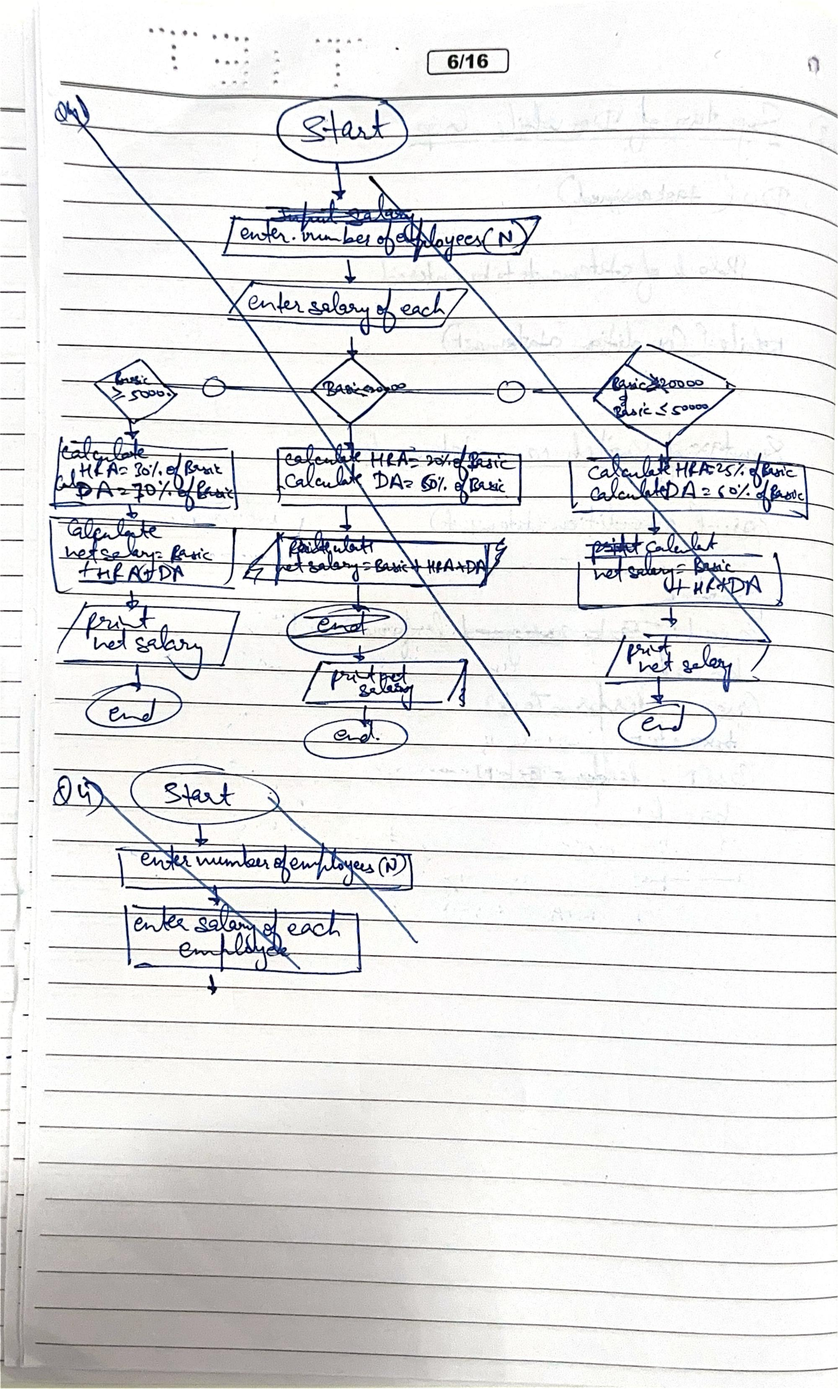cuttings: (47, 92, 812, 762), (49, 760, 424, 977)
